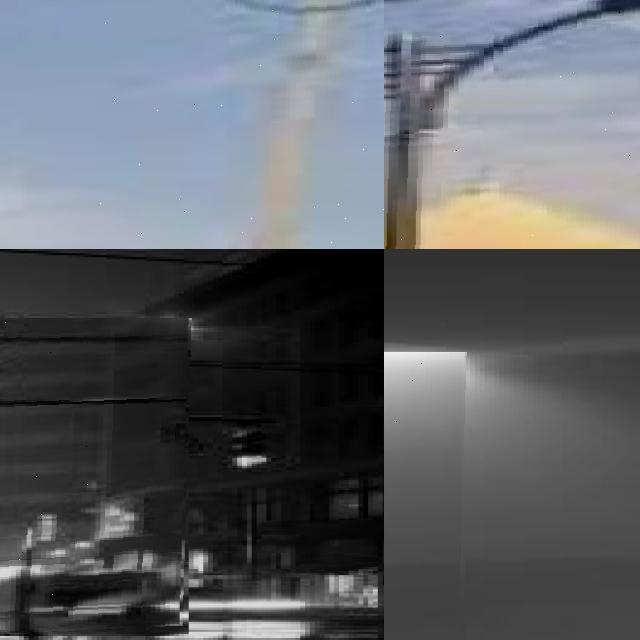street light: (0, 0, 384, 249), (384, 0, 640, 249), (0, 318, 191, 636), (384, 352, 467, 640), (169, 492, 269, 604)
